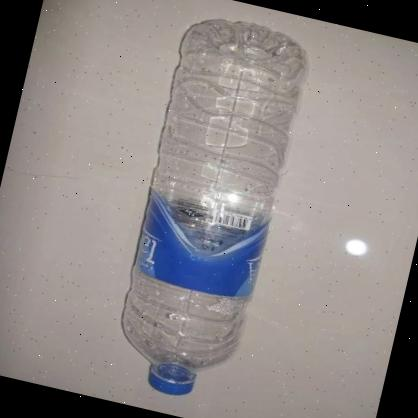bottle: (99, 7, 315, 412)
cap: (144, 364, 200, 404)
label: (131, 190, 269, 302)
